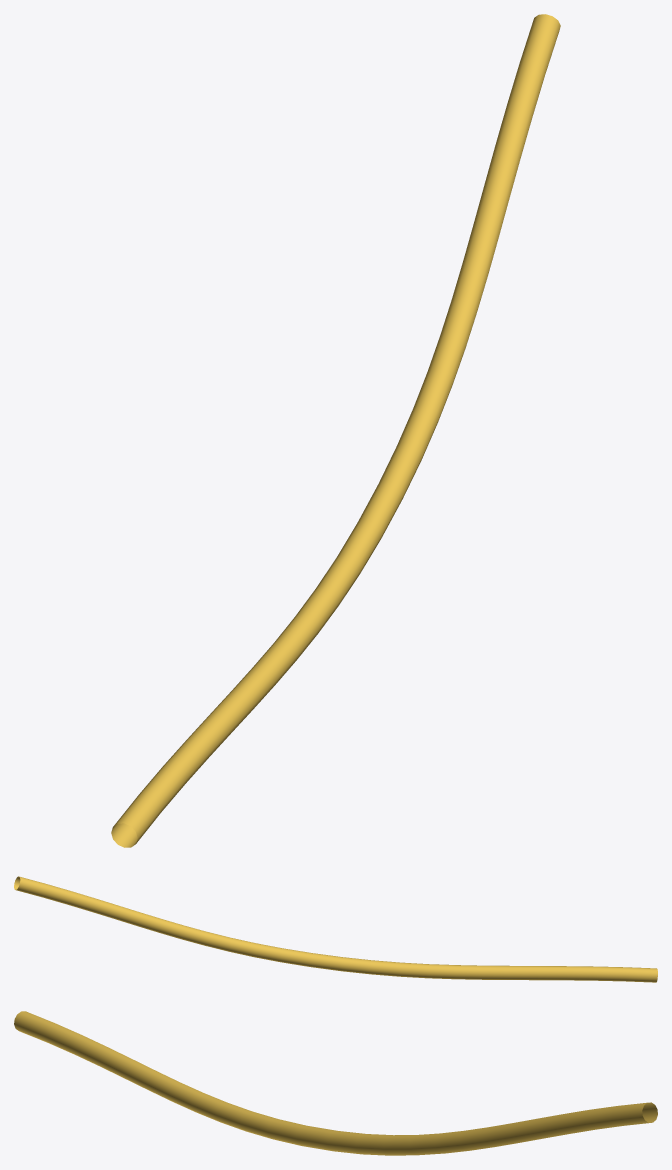
File: Infrapatellar_branch_saphenous_nerve_right.glb
3 renders of one model, top to bottom at view 1: azimuth 30°, elevation 25°; view 2: azimuth 150°, elevation 25°; view 3: azimuth 270°, elevation 25°, orthographic. The views are drawn at different scales.
Visible parts, largest first — view 1: Infrapatellar_branch_of_saphenous_nerve.r_BezierCurve.521; view 2: Infrapatellar_branch_of_saphenous_nerve.r_BezierCurve.521; view 3: Infrapatellar_branch_of_saphenous_nerve.r_BezierCurve.521.
Boxes of the visible parts, x1,y1,x2,y2 form: Infrapatellar_branch_of_saphenous_nerve.r_BezierCurve.521: (111, 14, 560, 847); Infrapatellar_branch_of_saphenous_nerve.r_BezierCurve.521: (14, 876, 657, 982); Infrapatellar_branch_of_saphenous_nerve.r_BezierCurve.521: (14, 1011, 657, 1155).
Size of the model in its own units: 0.0349 by 0.0121 by 0.0306.
